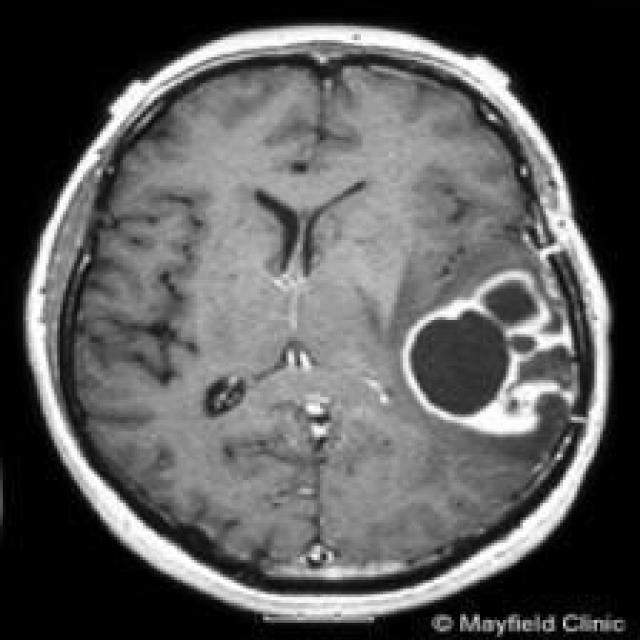Tumor: (403, 277, 571, 446)
